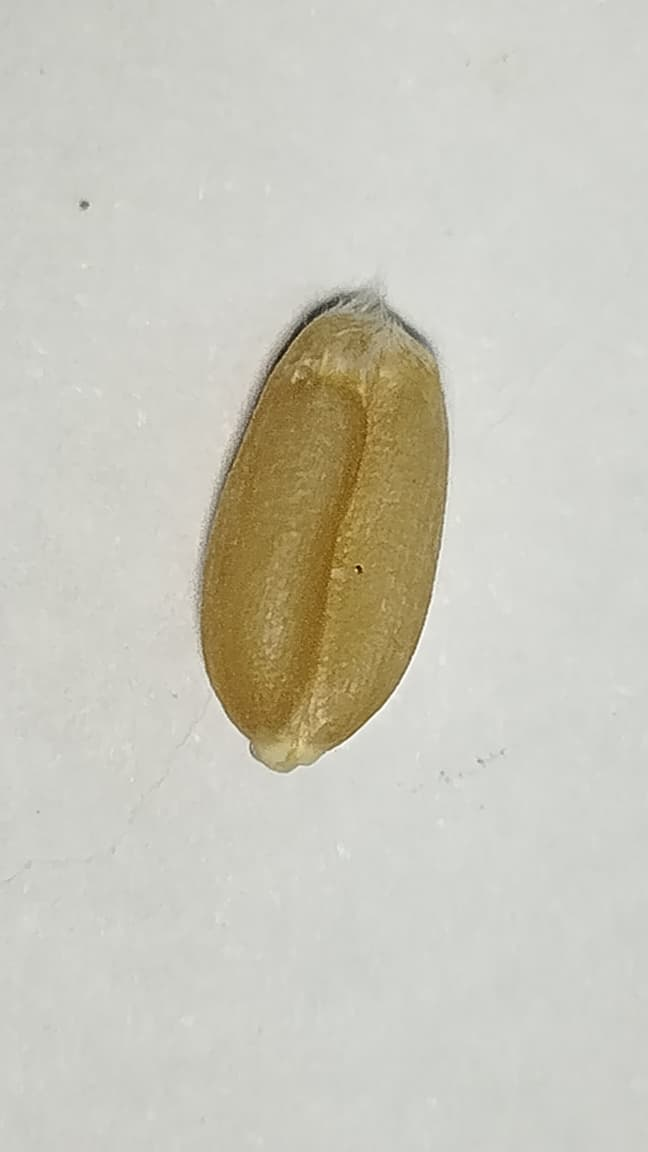healthy: (206, 303, 447, 769)
